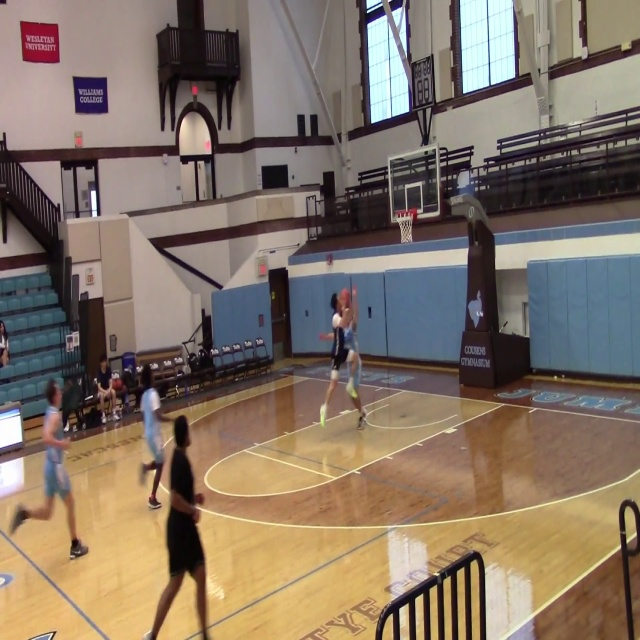Basketball: (346, 382, 358, 398), (332, 313, 342, 328), (194, 493, 205, 505), (112, 379, 123, 391)
